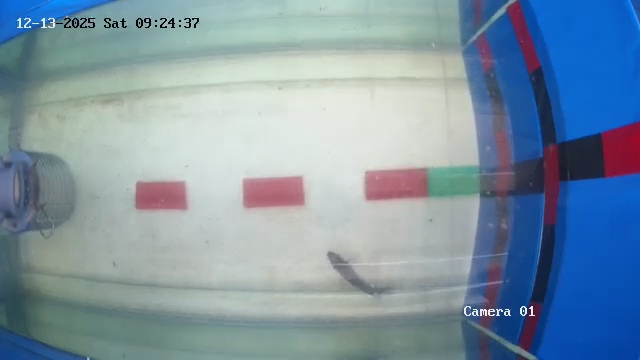fish: (320, 253, 381, 287)
